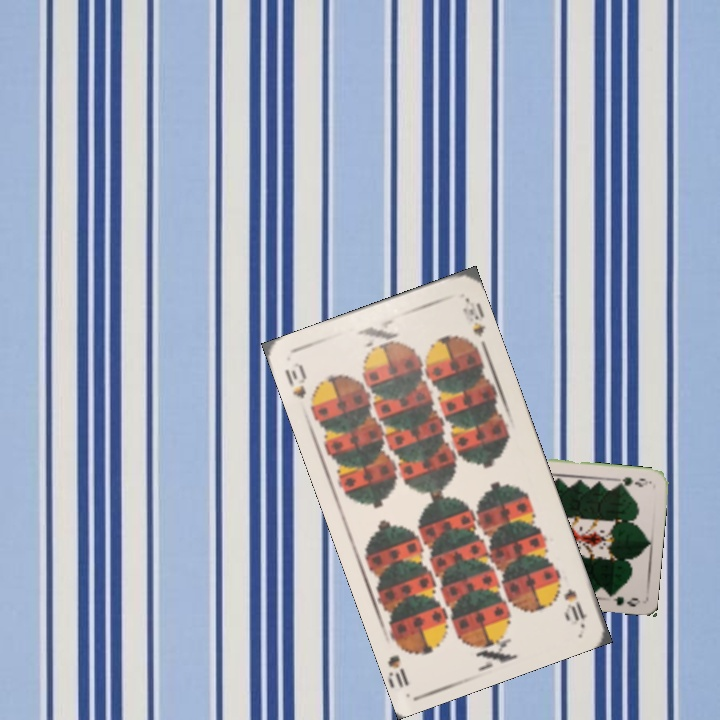G9: (612, 473, 653, 490)
S10: (280, 358, 320, 415), (559, 584, 590, 624)
